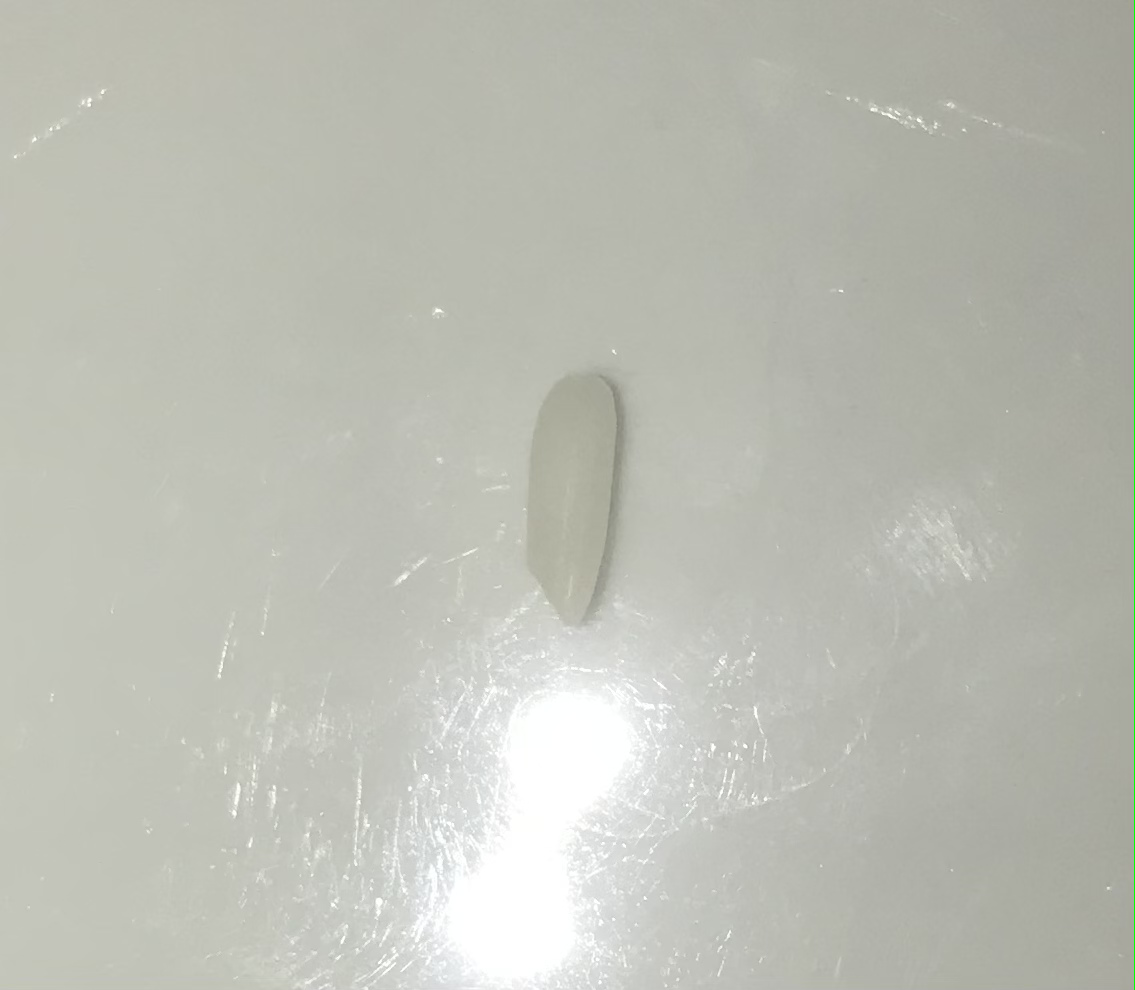Gao Thom Go Cong: (479, 352, 680, 618)
